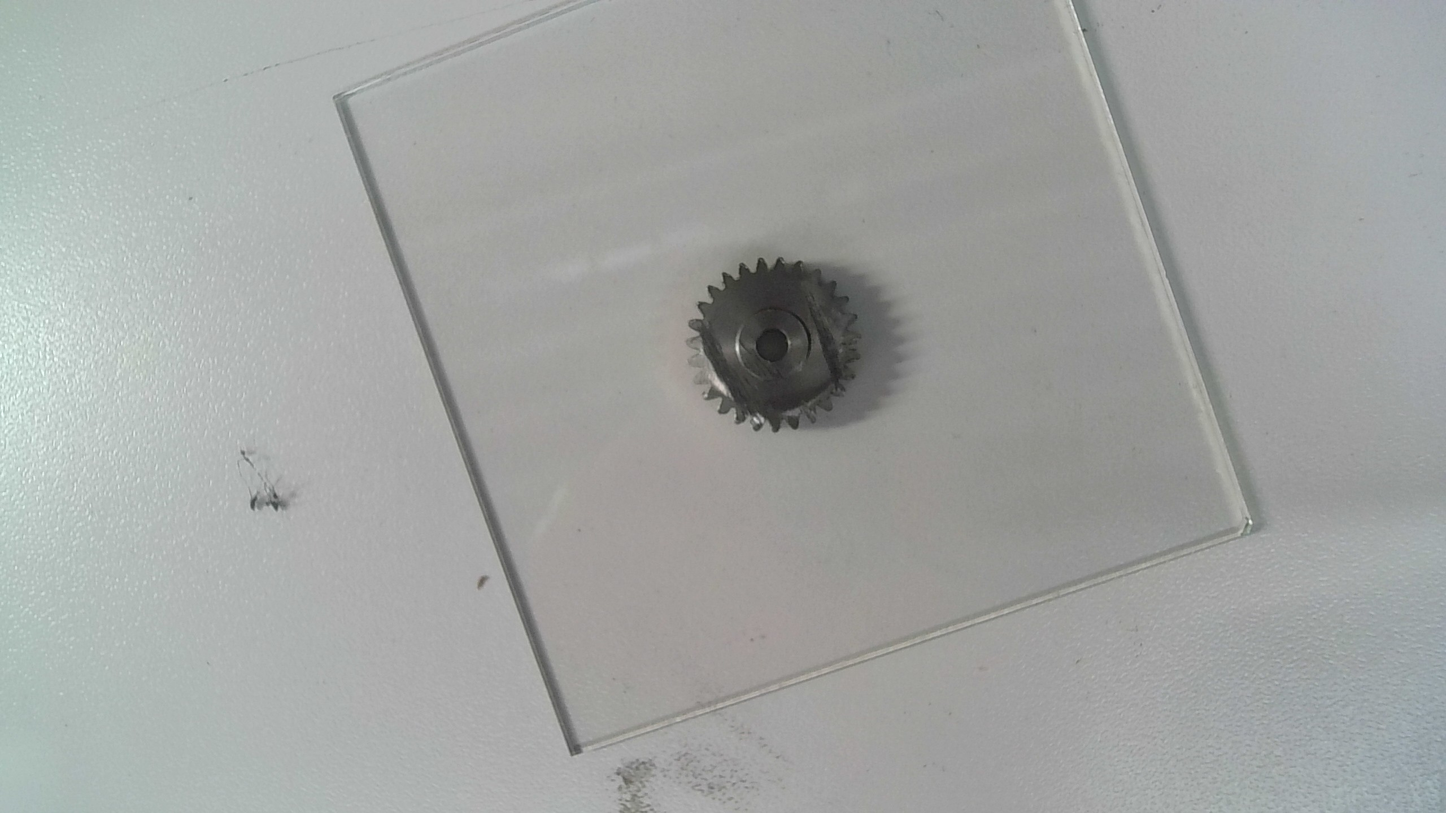gear: (682, 255, 865, 437)
